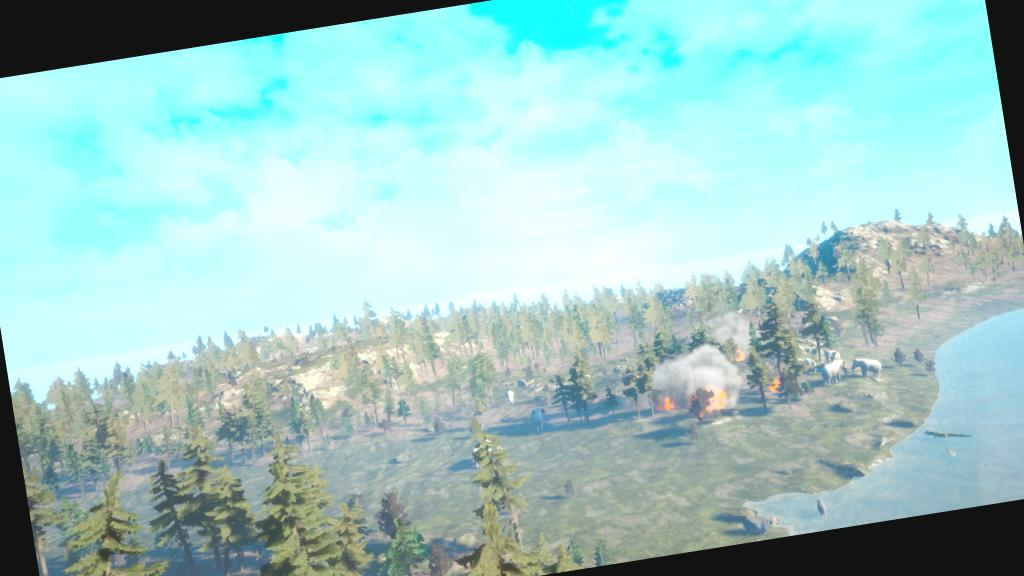Fire: (690, 381, 744, 427), (652, 388, 683, 418)
elephant: (805, 332, 900, 406)
smoke: (627, 304, 769, 422)
